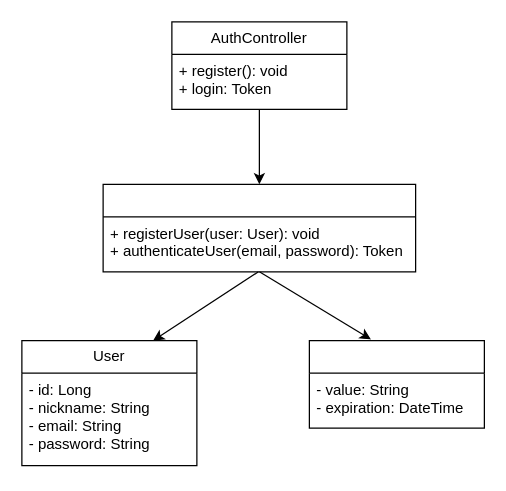
This 506x491 diagram has some shape labels left out. The box of each missing label's shape, as (x1, y1, x2, y2) in pixels:
AuthService: (102, 183, 416, 272)
Token: (308, 339, 484, 428)
